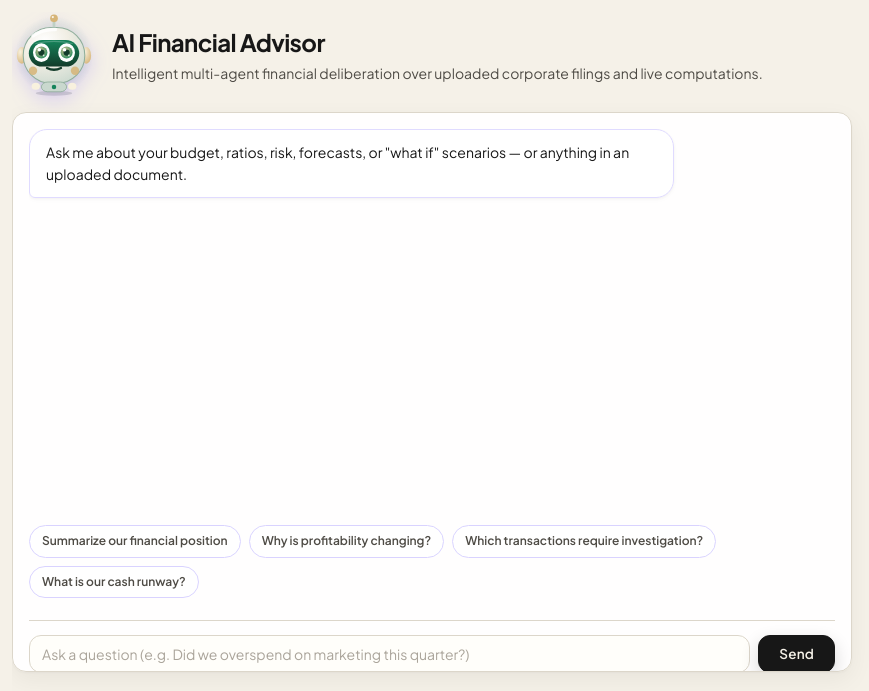
Test case: AIAdvisor › shows a graceful error message if the request fails
Step 1. Type "Anything?" into the field named "Message" → {"x": 390, "y": 654}, box [29, 635, 750, 673]
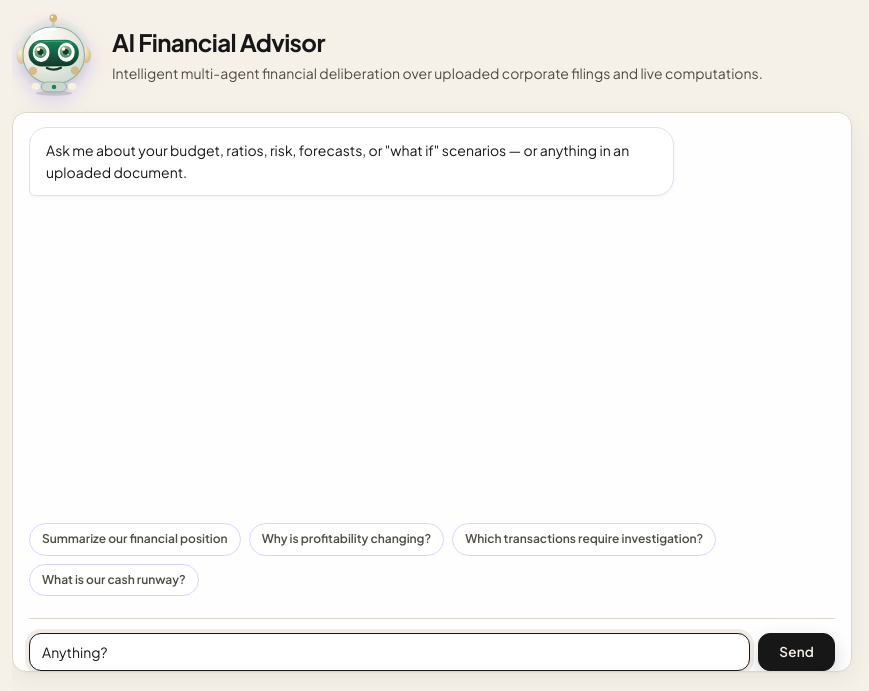
Step 2. Click the button "Send" → {"x": 797, "y": 652}, box [758, 633, 835, 671]
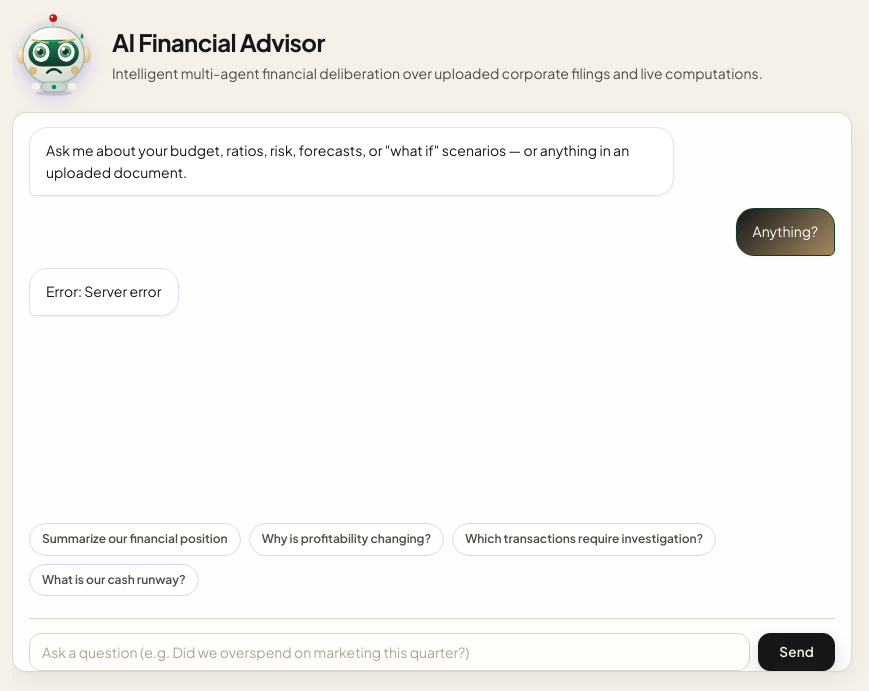
expect the element with test id "chat-log" shows "Error: Server error": met, box [46, 282, 162, 300]
